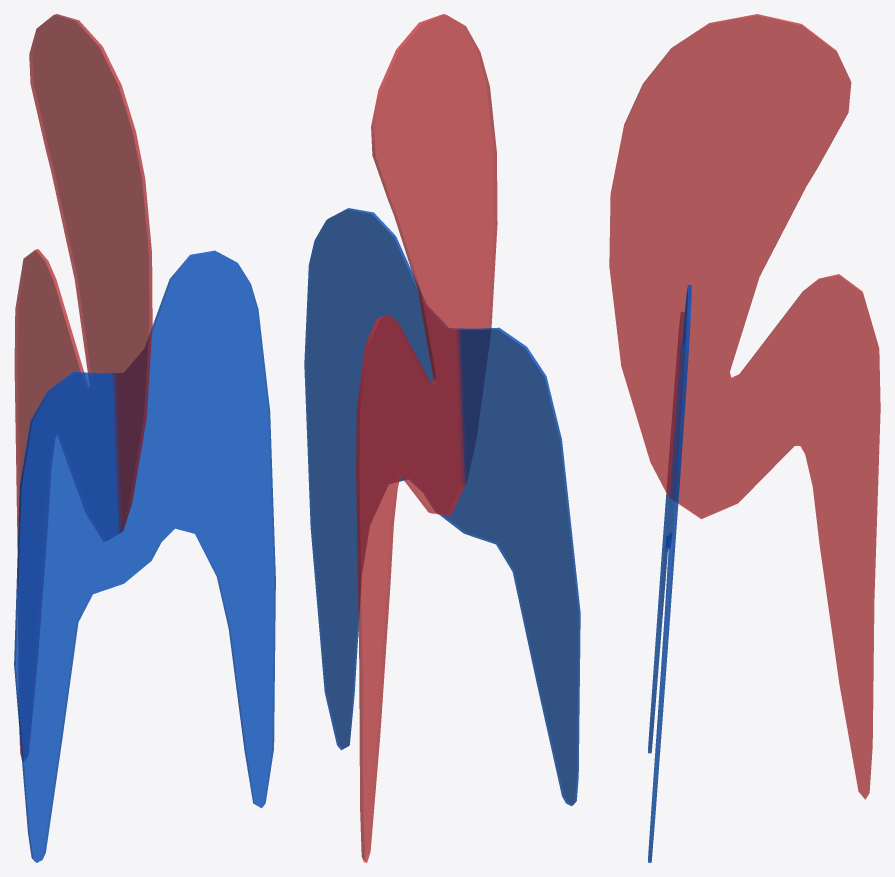
The model's file is mads_02.glb.
3 views of the same model, side by side, from view 1: azimuth 30°, elevation 25°; view 2: azimuth 150°, elevation 25°; view 3: azimuth 270°, elevation 25° (orthographic). The views are drawn at different scales.
Parts seen in each view (by area): view 1: Model_02_Shihab; view 2: Model_02_Shihab; view 3: Model_02_Shihab.
Boxes of the visible parts, x1,y1,x2,y2 form: Model_02_Shihab: [14, 14, 275, 862]; Model_02_Shihab: [304, 14, 580, 862]; Model_02_Shihab: [609, 14, 880, 862].
Size of the model in its own units: 30.83 by 87.99 by 27.58.
